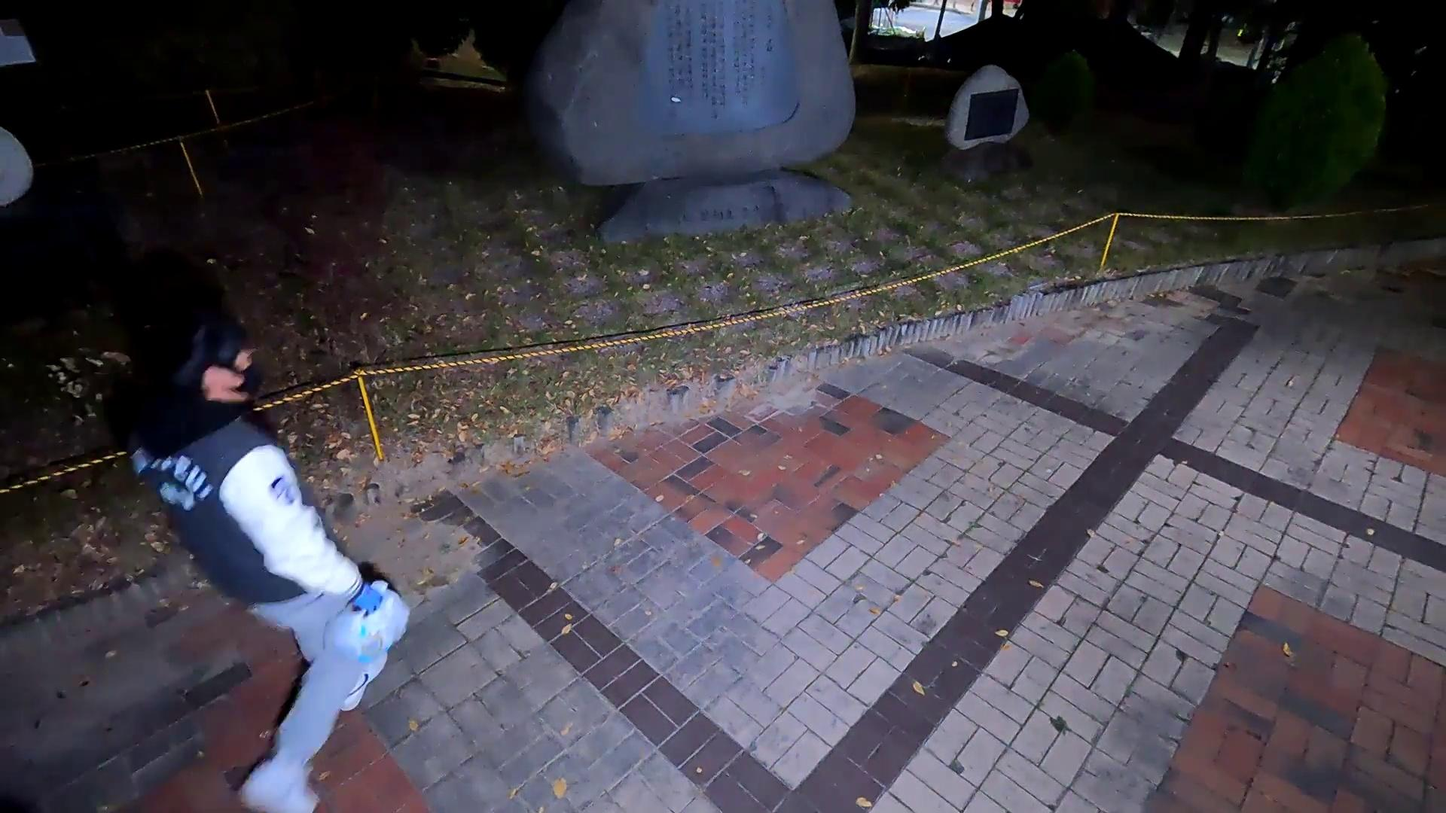person: (126, 307, 407, 813)
trash: (320, 583, 414, 669)
